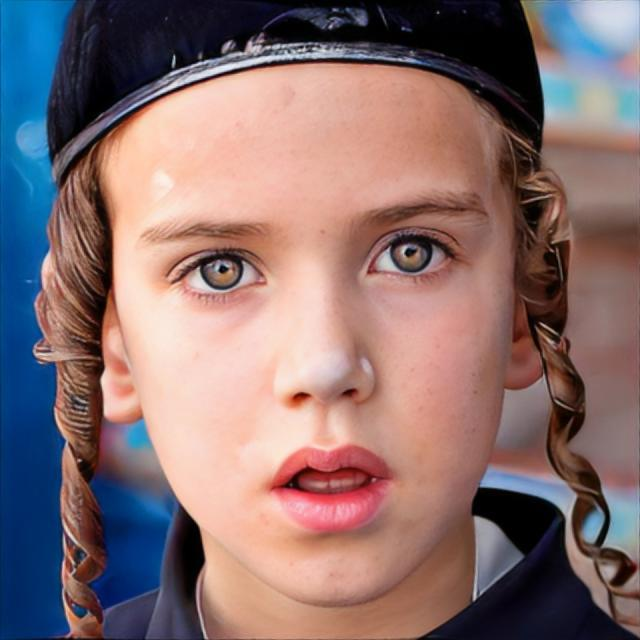surprise: (97, 61, 516, 610)
